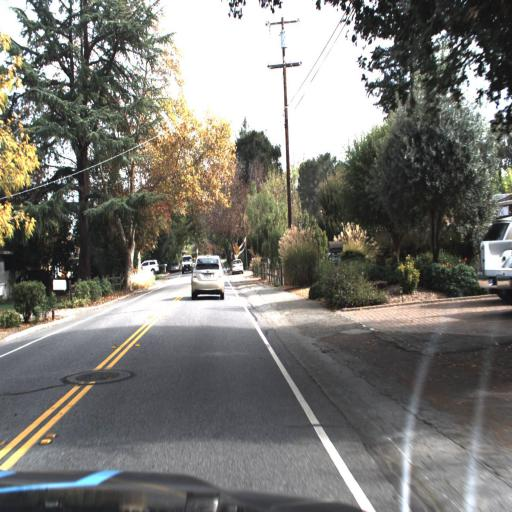car: (189, 251, 227, 303), (138, 257, 162, 279), (179, 250, 196, 274), (229, 258, 246, 278)
